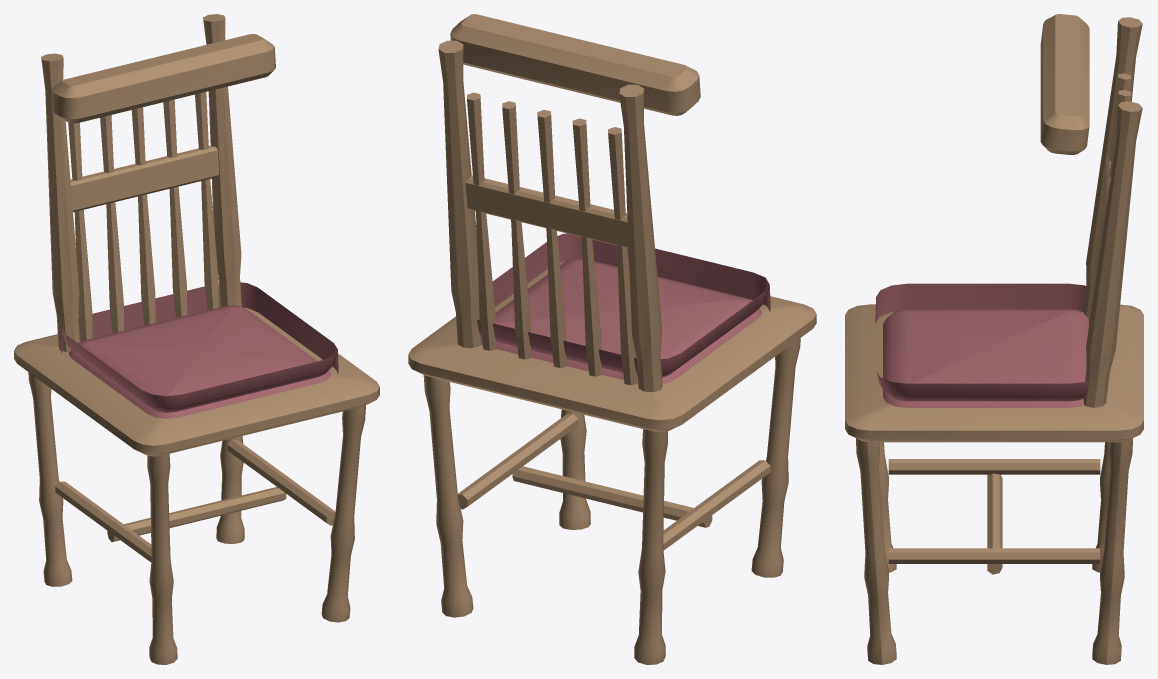
File: bar-pub-and-brewery-taproom-spindle-back-chair-b2d44bc4__18388.glb
3 renders of one model, left to right at view 1: azimuth 30°, elevation 25°; view 2: azimuth 150°, elevation 25°; view 3: azimuth 270°, elevation 25°, orthographic. The views are drawn at different scales.
Visible parts, largest first — view 1: spindle-back-chair; view 2: spindle-back-chair; view 3: spindle-back-chair.
Part boxes in pixels (x1=…): spindle-back-chair: x1=14, y1=14, x2=379, y2=664; spindle-back-chair: x1=408, y1=14, x2=816, y2=664; spindle-back-chair: x1=845, y1=14, x2=1143, y2=664.
Size of the model in its own units: 0.4799 by 0.976 by 0.4799.
